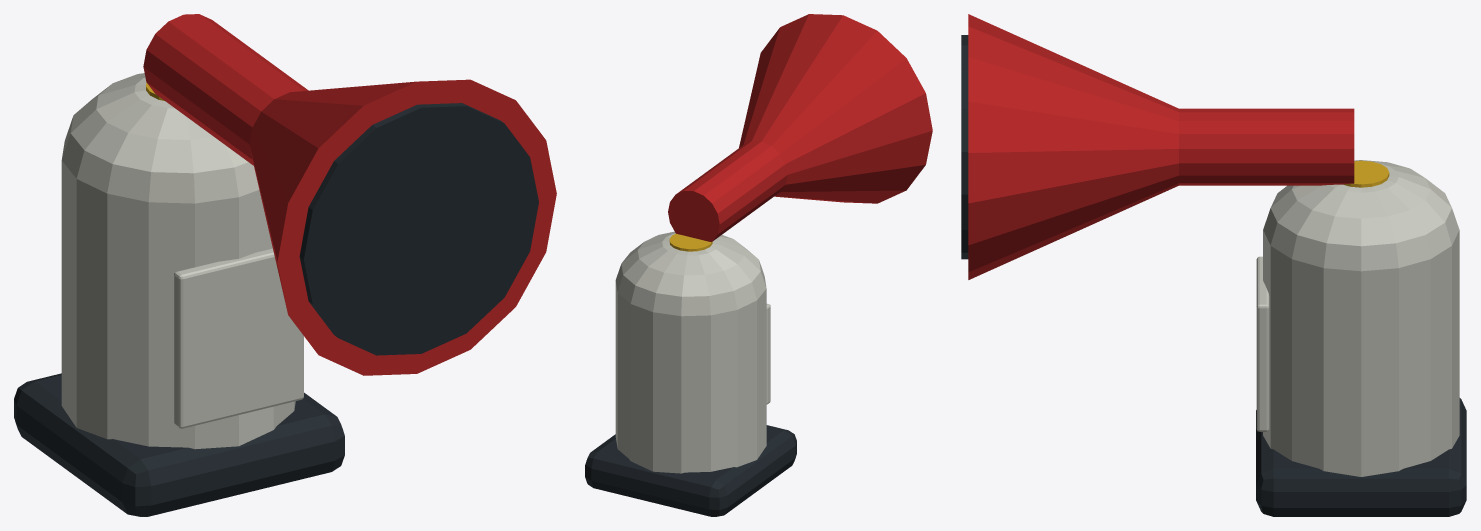
The model's file is air-horn.glb.
3 renders of one model, left to right at view 1: azimuth 30°, elevation 25°; view 2: azimuth 150°, elevation 25°; view 3: azimuth 270°, elevation 25°, orthographic. The views are drawn at different scales.
Visible parts, largest first — view 1: pressure vessel; view 2: pressure vessel; view 3: pressure vessel.
Part boxes in pixels (box(x1,y1,x2,y2)): pressure vessel: box(14, 14, 556, 516); pressure vessel: box(585, 14, 932, 516); pressure vessel: box(961, 14, 1466, 516).
Size of the model in its own units: 0.38 by 0.7125 by 0.72.
